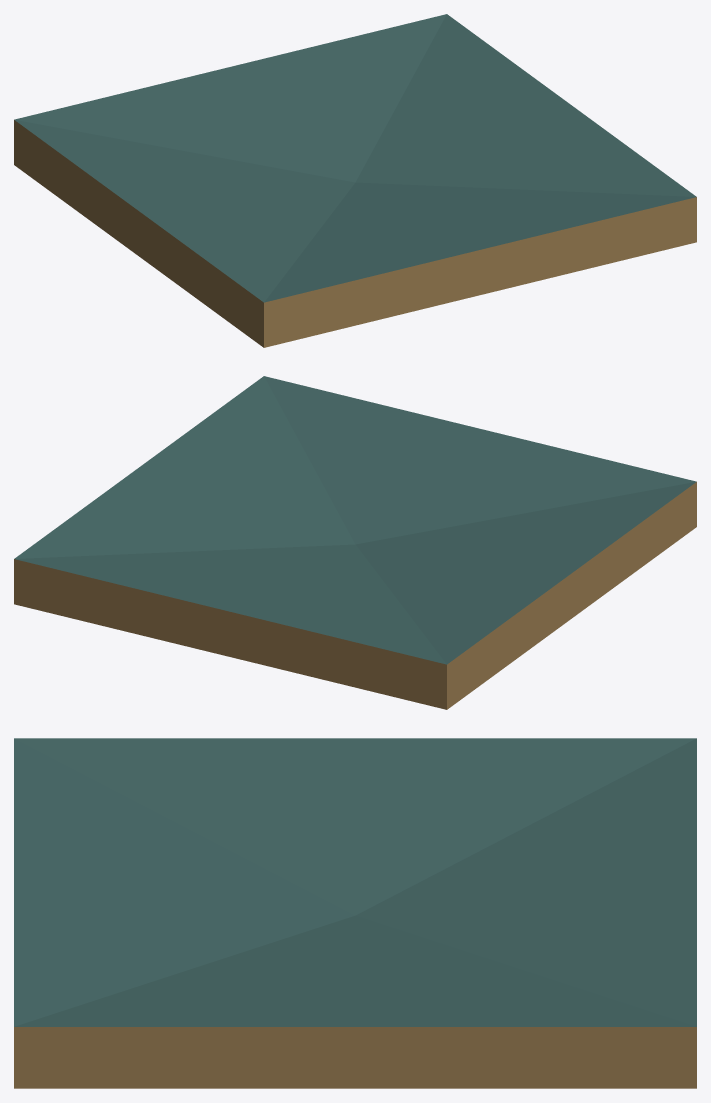
File: naturePack_003.fbx
The picture shows the model from 3 angles, top to bottom: view 1: azimuth 30°, elevation 25°; view 2: azimuth 150°, elevation 25°; view 3: azimuth 270°, elevation 25°; orthographic projection. The views are drawn at different scales.
Parts seen in each view (by area): view 1: Mesh1_Plate_Grass Model; view 2: Mesh1_Plate_Grass Model; view 3: Mesh1_Plate_Grass Model.
Boxes of the visible parts, x1,y1,x2,y2 form: Mesh1_Plate_Grass Model: [14, 14, 696, 347]; Mesh1_Plate_Grass Model: [14, 376, 696, 709]; Mesh1_Plate_Grass Model: [14, 738, 696, 1088].
Bounding box in the file's own units: 3 × 0.3 × 3.
